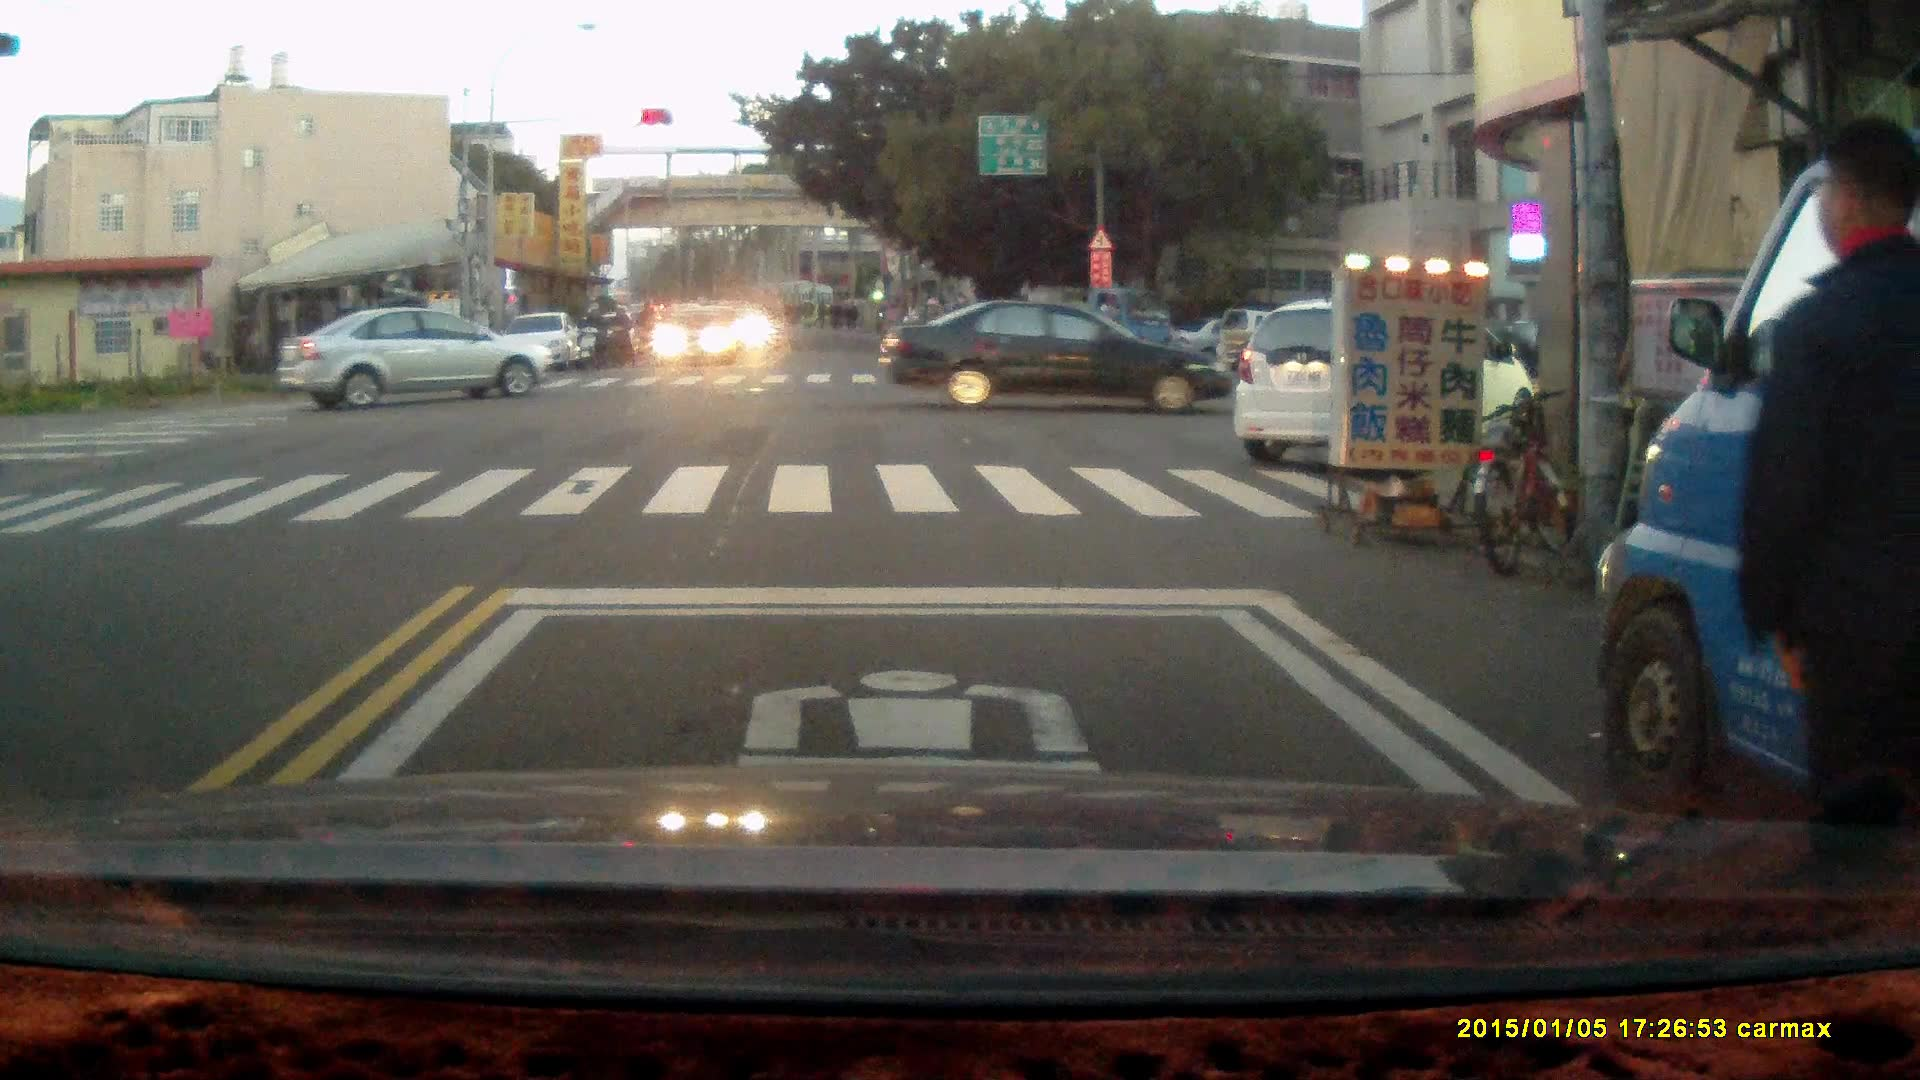pedestrian: (1728, 111, 1920, 815)
rider: (873, 294, 907, 359), (576, 301, 608, 367), (604, 301, 633, 365)
vehicle: (1598, 132, 1920, 844), (1233, 296, 1533, 459), (881, 298, 1231, 412), (279, 307, 554, 409), (1002, 284, 1179, 367)
